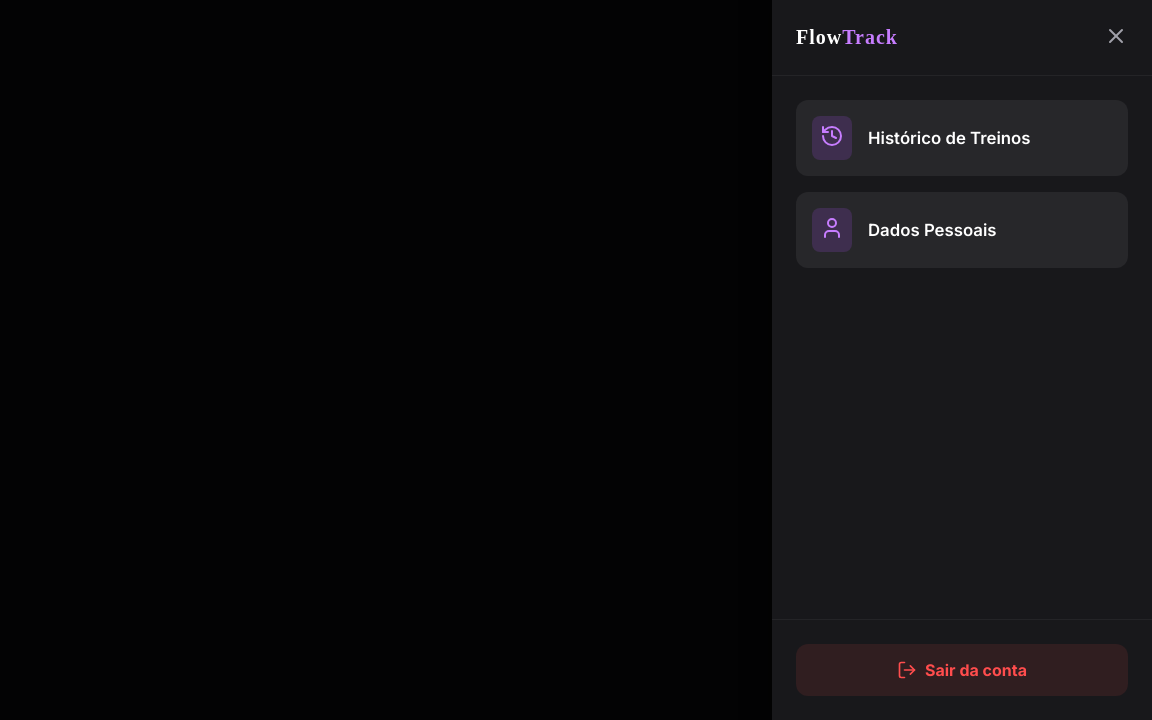
Scenario: SidebarMenu – localStorage › deve pré-preencher o formulário com dados do localStorage
The width and height of the screenshot is (1152, 720).
// Navega para o perfil
Click the button "Dados Pessoais". click: (962, 230)
box: [796,192,1128,268]
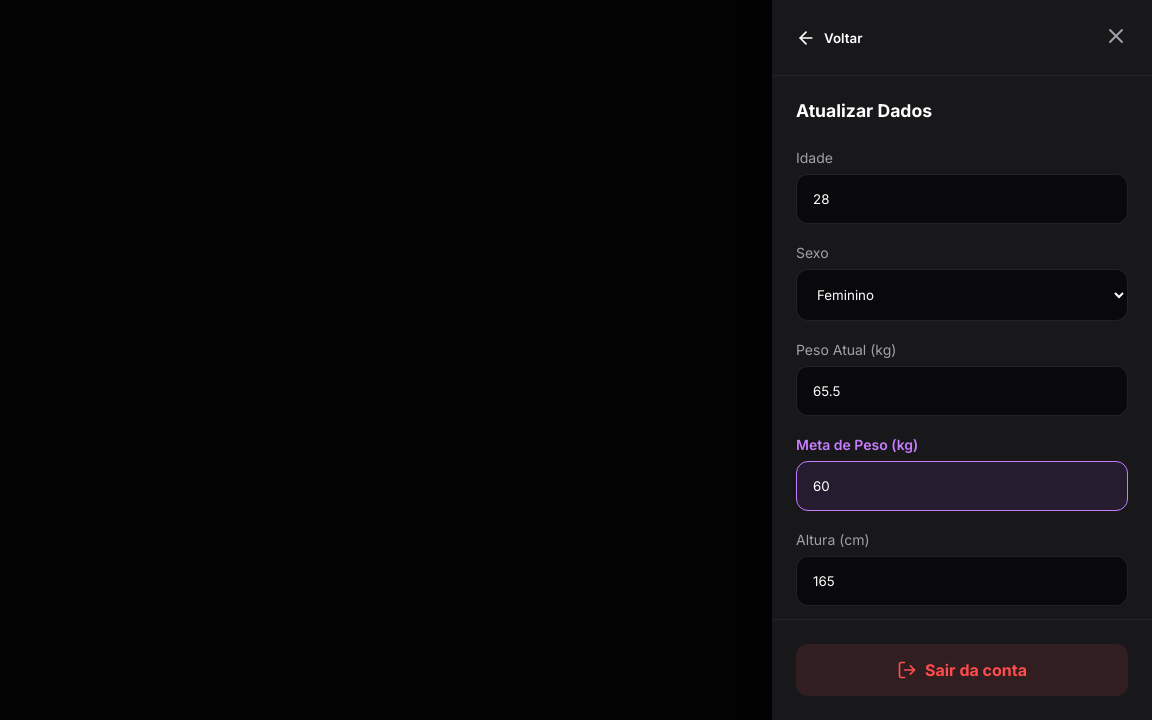
Now the number field below "Idade" holds "28", box [796,174,1128,224]
Now the number field below "Peso Atual (kg)" holds "65.5", box [796,366,1128,416]
Now the number field below "Meta de Peso (kg)" holds "60", box [796,461,1128,511]
